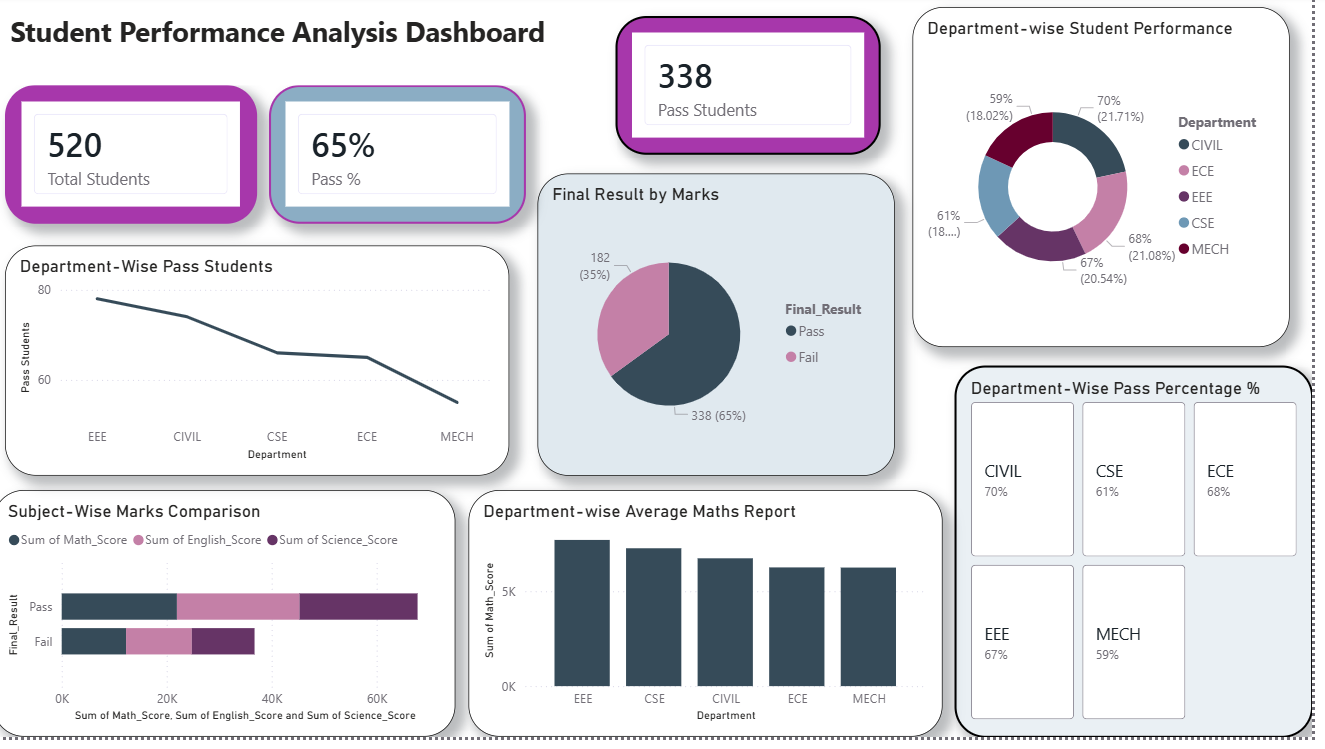

What the dashboard file says about the page in this screenshot:
{"tool":"powerbi","page":{"name":"Page 1","canvas":[1280,720],"ordinal":0},"visuals":[{"type":"cardVisual","fields":{"Data":["Copy of Student_Performance_Messy.Total Students"]},"box":[11.3,87.4,244.5,134.4],"z":0},{"type":"cardVisual","fields":{"Data":["Copy of Student_Performance_Messy.Pass %"]},"box":[267.2,87.4,249.4,134.4],"z":1000},{"type":"cardVisual","fields":{"Data":["Copy of Student_Performance_Messy.Pass Students"]},"box":[604,21,257.5,134.4],"z":2000},{"type":"pieChart","title":"Final Result by Marks","fields":{"Category":["Copy of Student_Performance_Messy.Final_Result"],"Y":["CountNonNull(Copy of Student_Performance_Messy.Student_ID)"]},"box":[527.9,173.3,346.5,293.1],"z":3000},{"type":"barChart","title":"Subject-Wise Marks Comparison","fields":{"Category":["Copy of Student_Performance_Messy.Final_Result"],"Y":["Sum(Copy of Student_Performance_Messy.Math_Score)","Sum(Copy of Student_Performance_Messy.English_Score)","Sum(Copy of Student_Performance_Messy.Science_Score)"]},"box":[0,480.9,448.5,239.6],"z":4000},{"type":"clusteredColumnChart","title":" Department-wise Average Maths Report","fields":{"Y":["Sum(Copy of Student_Performance_Messy.Math_Score)"],"Category":["Copy of Student_Performance_Messy.Department"]},"box":[461.5,480.9,459.9,239.6],"z":5000},{"type":"advancedSlicerVisual","title":"Department-Wise Pass Percentage % ","fields":{"Values":["Copy of Student_Performance_Messy.Department"],"Label":["Copy of Student_Performance_Messy.Pass %"]},"box":[932.7,359.5,348.1,361.1],"z":6000},{"type":"donutChart","title":"Department-wise Student Performance","fields":{"Y":["Copy of Student_Performance_Messy.Pass %"],"Category":["Copy of Student_Performance_Messy.Department"]},"box":[892.2,11.3,365.9,330.3],"z":7000},{"type":"lineChart","title":"Department-Wise Pass Students","fields":{"Y":["Copy of Student_Performance_Messy.Pass Students"],"Category":["Copy of Student_Performance_Messy.Department"]},"box":[11.3,242.9,489,223.5],"z":8000},{"type":"textbox","box":[11.3,11.3,539.2,76.1],"z":9000}]}

Visuals, with their boxes in screenshot pixels (x1, y1, x2, y2), scaled from the page's 1280x720 canvas onto the 1325x749 screenshot:
cardVisual - Copy of Student_Performance_Messy.Total Students: {"left": 12, "top": 91, "right": 265, "bottom": 231}
cardVisual - Copy of Student_Performance_Messy.Pass %: {"left": 277, "top": 91, "right": 535, "bottom": 231}
cardVisual - Copy of Student_Performance_Messy.Pass Students: {"left": 625, "top": 22, "right": 892, "bottom": 162}
"Final Result by Marks" pieChart: {"left": 546, "top": 180, "right": 905, "bottom": 485}
"Subject-Wise Marks Comparison" barChart: {"left": 0, "top": 500, "right": 464, "bottom": 748}
" Department-wise Average Maths Report" clusteredColumnChart: {"left": 478, "top": 500, "right": 954, "bottom": 748}
"Department-Wise Pass Percentage % " advancedSlicerVisual: {"left": 965, "top": 374, "right": 1324, "bottom": 748}
"Department-wise Student Performance" donutChart: {"left": 924, "top": 12, "right": 1302, "bottom": 355}
"Department-Wise Pass Students" lineChart: {"left": 12, "top": 253, "right": 518, "bottom": 485}
textbox: {"left": 12, "top": 12, "right": 570, "bottom": 91}
